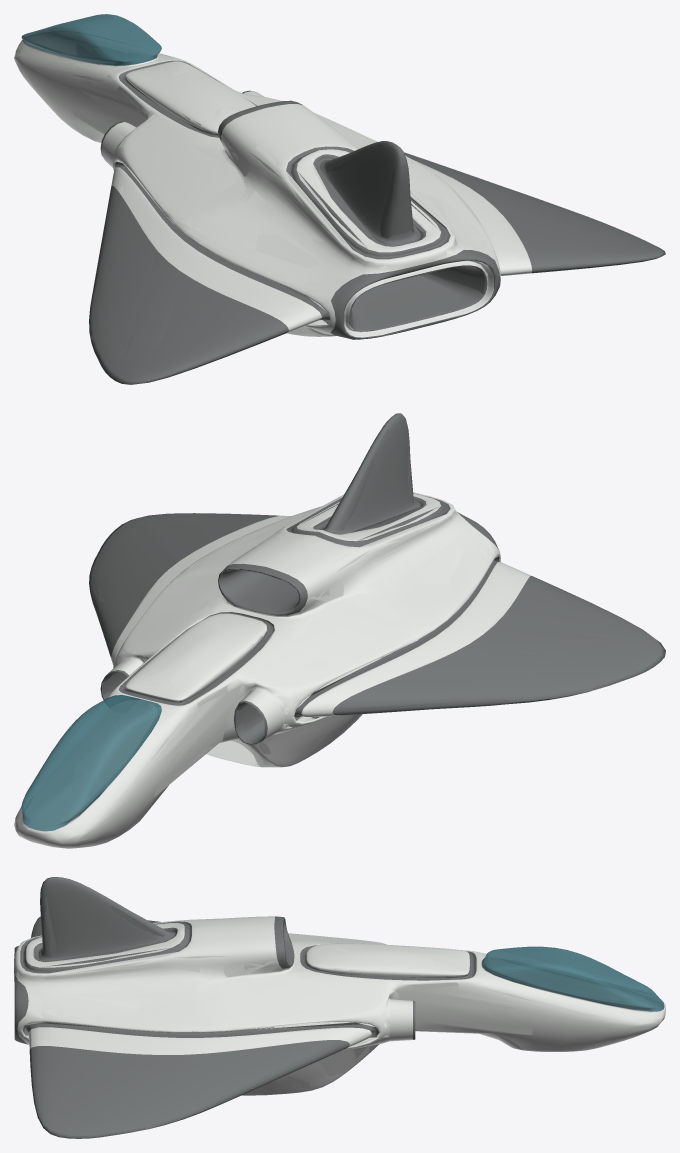
Rendered from prototype_shuttle_exterior.glb.
3 renders of one model, top to bottom at view 1: azimuth 30°, elevation 25°; view 2: azimuth 150°, elevation 25°; view 3: azimuth 270°, elevation 25°, orthographic. The views are drawn at different scales.
Parts seen in each view (by area): view 1: ExactShuttleAReferenceBlockoutExterior; view 2: ExactShuttleAReferenceBlockoutExterior; view 3: ExactShuttleAReferenceBlockoutExterior.
Part boxes in pixels (<box>): ExactShuttleAReferenceBlockoutExterior: <box>14,14,665,384</box>; ExactShuttleAReferenceBlockoutExterior: <box>14,413,665,848</box>; ExactShuttleAReferenceBlockoutExterior: <box>14,877,665,1138</box>.
Bounding box in the file's own units: 27.54 × 11.36 × 33.68.
